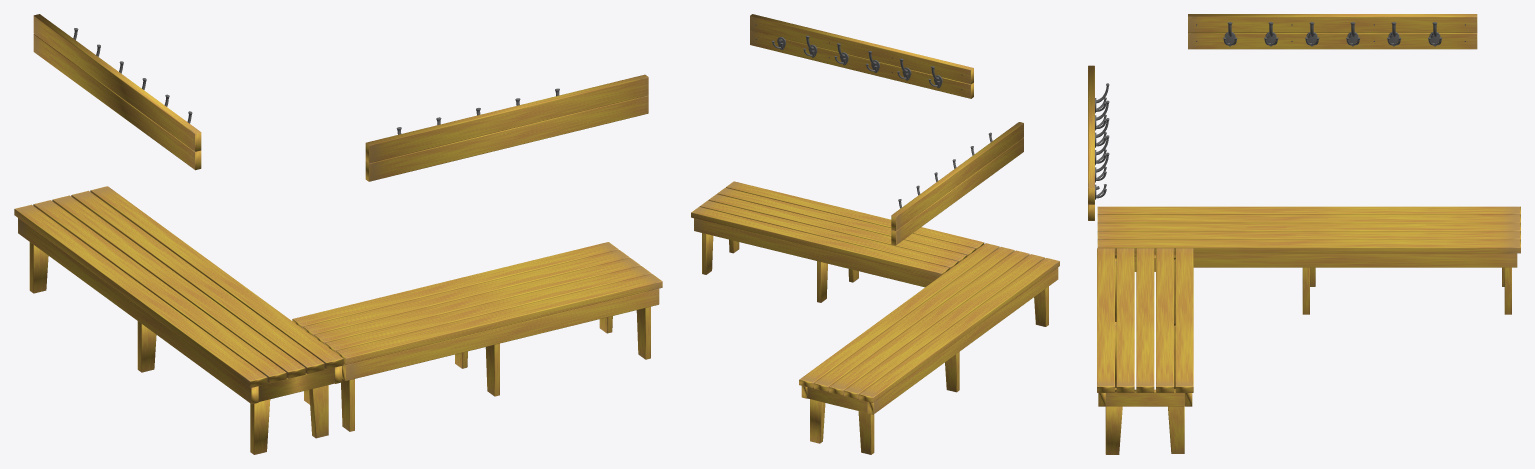
Rendered from KuuraPukuhuone.FBX.
3 views of the same model, side by side, from view 1: azimuth 30°, elevation 25°; view 2: azimuth 150°, elevation 25°; view 3: azimuth 270°, elevation 25° (orthographic). The views are drawn at different scales.
Parts seen in each view (by area): view 1: PukuhuonePenkki (×2), Towel Hanger (×2); view 2: PukuhuonePenkki (×2), Towel Hanger (×2); view 3: PukuhuonePenkki (×2), Towel Hanger (×2).
Part boxes in pixels (x1=…): PukuhuonePenkki (×2): x1=14, y1=186, x2=662, y2=454; Towel Hanger (×2): x1=33, y1=14, x2=648, y2=181; PukuhuonePenkki (×2): x1=691, y1=181, x2=1059, y2=454; Towel Hanger (×2): x1=750, y1=14, x2=1023, y2=245; PukuhuonePenkki (×2): x1=1097, y1=206, x2=1520, y2=454; Towel Hanger (×2): x1=1088, y1=14, x2=1477, y2=220.
Size of the model in its own units: 316 by 211 by 317.
Materials: 3 (1 with a texture image).
